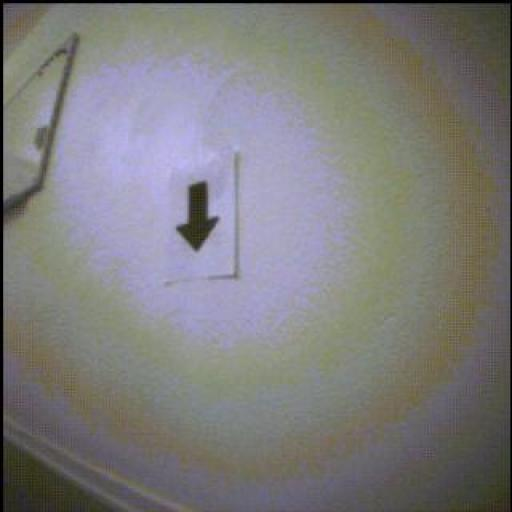Arrow: (177, 182, 220, 252)
